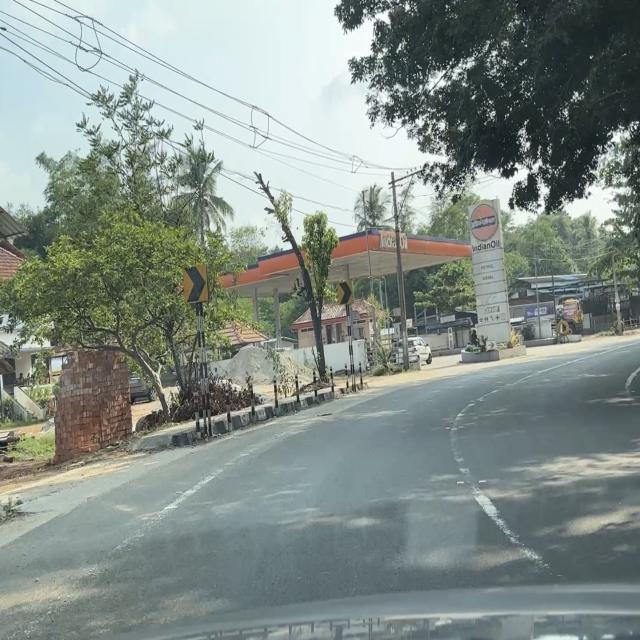TURN_RIGHT: (183, 264, 209, 304), (338, 280, 353, 306)
